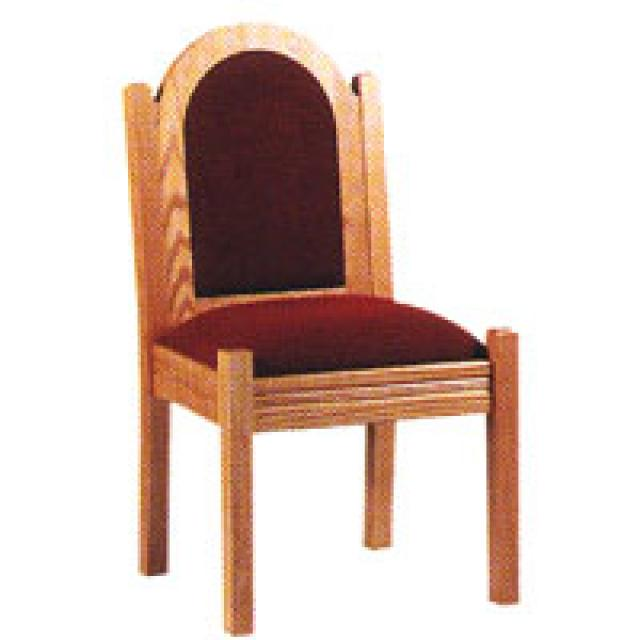chair: (122, 18, 522, 635)
